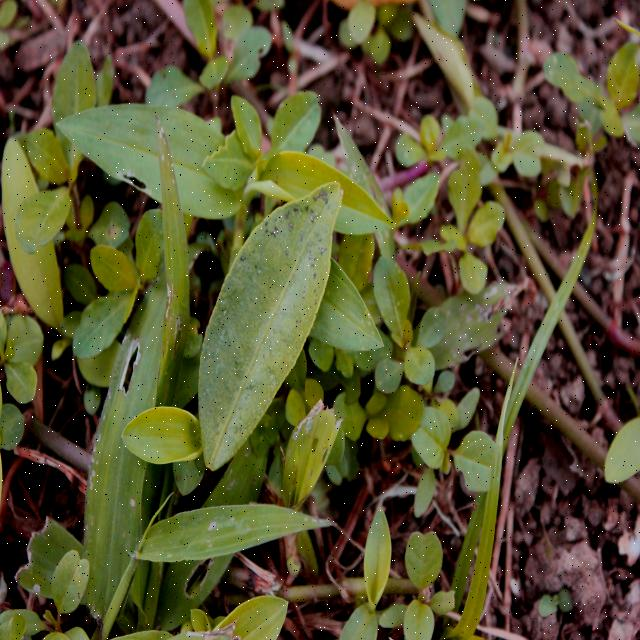blackspot: (201, 188, 335, 448)
